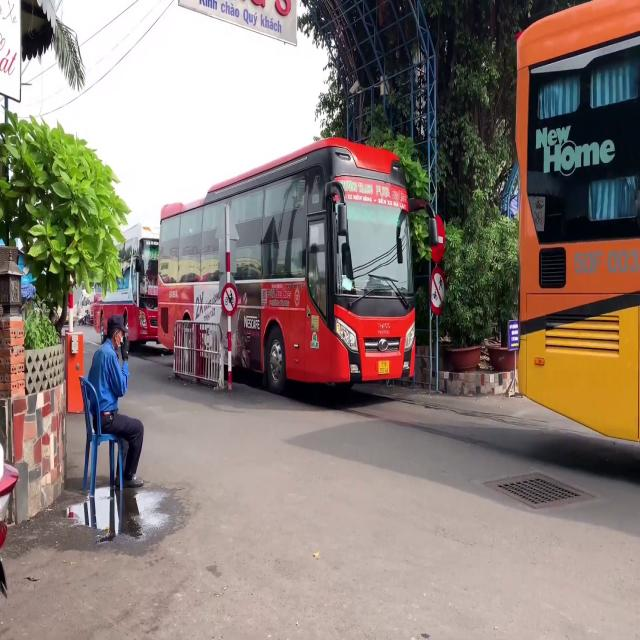bien_vang: (377, 360, 390, 375)
